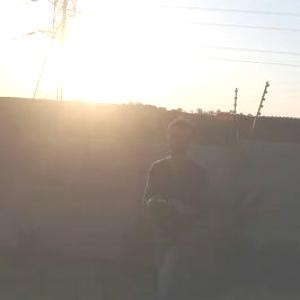follow: (136, 108, 215, 299)
